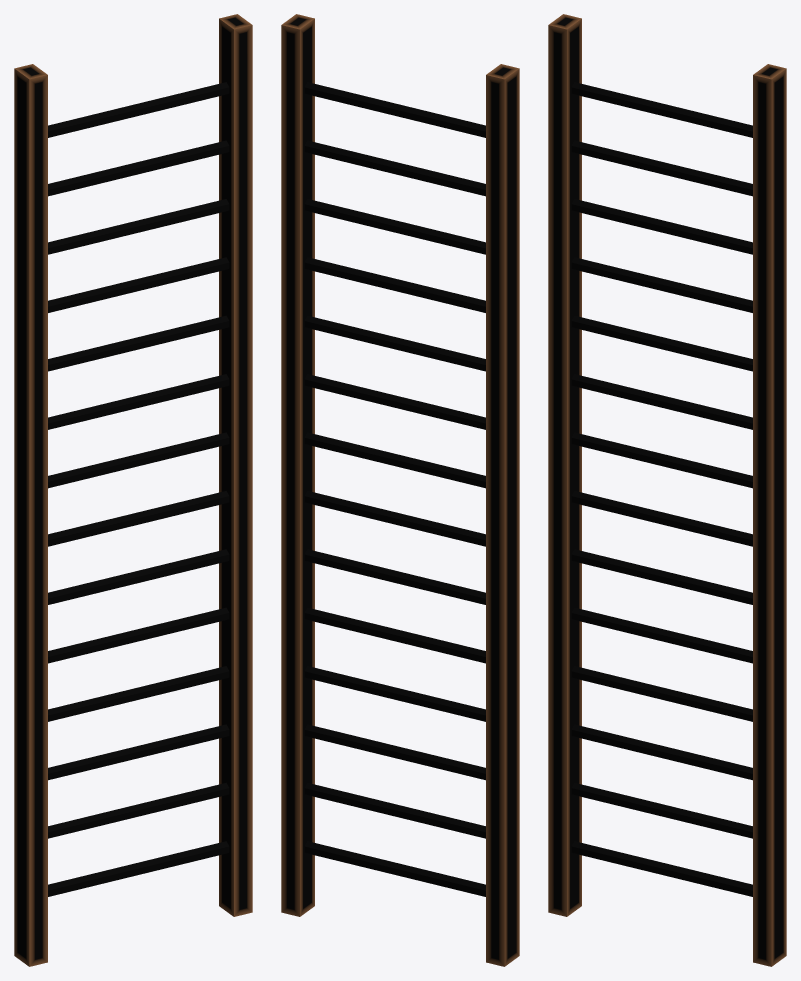
Rendered from wall_bars.glb.
3 renders of one model, left to right at view 1: azimuth 30°, elevation 25°; view 2: azimuth 150°, elevation 25°; view 3: azimuth 330°, elevation 25°, orthographic.
Parts seen in each view (by area): view 1: teak, ash; view 2: teak, ash; view 3: teak, ash.
Boxes of the visible parts, x1,y1,x2,y2 form: teak: (14, 14, 252, 966); ash: (48, 82, 229, 896); teak: (281, 14, 519, 966); ash: (304, 82, 485, 896); teak: (548, 14, 786, 966); ash: (571, 82, 752, 896).
Size of the model in its own units: 0.6 by 2.28 by 0.07.
